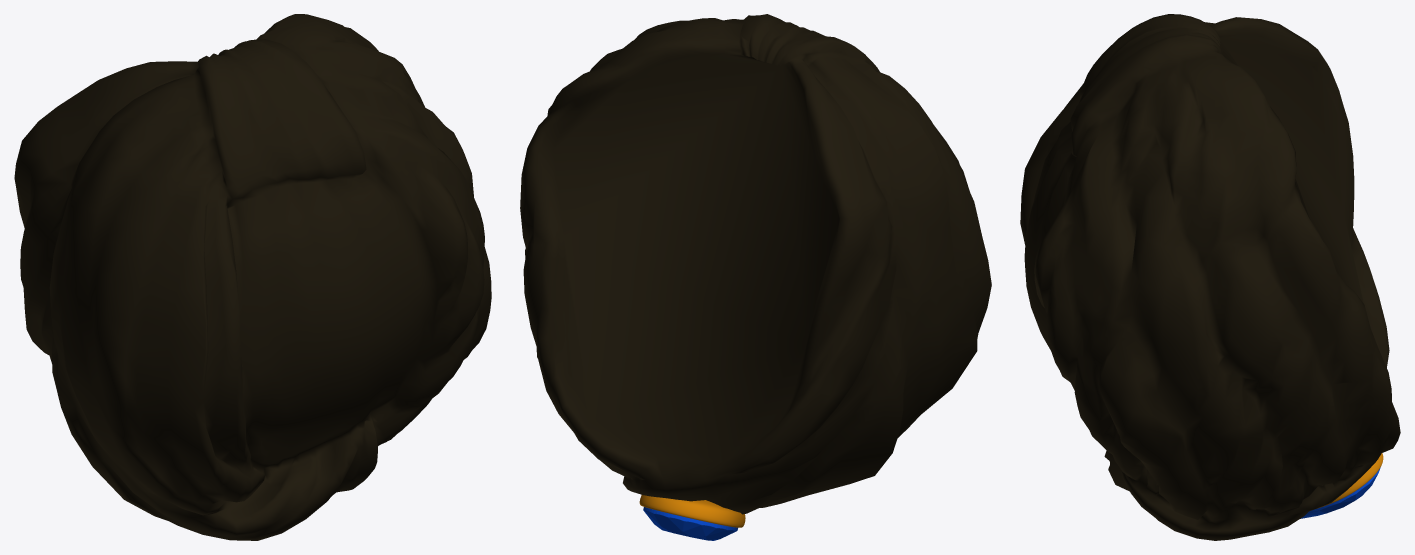
Rendered from Kavuk_v4_pivoted.FBX.
3 renders of one model, left to right at view 1: azimuth 30°, elevation 25°; view 2: azimuth 150°, elevation 25°; view 3: azimuth 270°, elevation 25°, orthographic. The views are drawn at different scales.
Visible parts, largest first — view 1: full_body; view 2: full_body; view 3: full_body.
Boxes of the visible parts, x1,y1,x2,y2 form: full_body: [14, 14, 491, 540]; full_body: [520, 14, 991, 540]; full_body: [1020, 14, 1400, 540].
Size of the model in its own units: 32.31 by 37.56 by 26.81.
